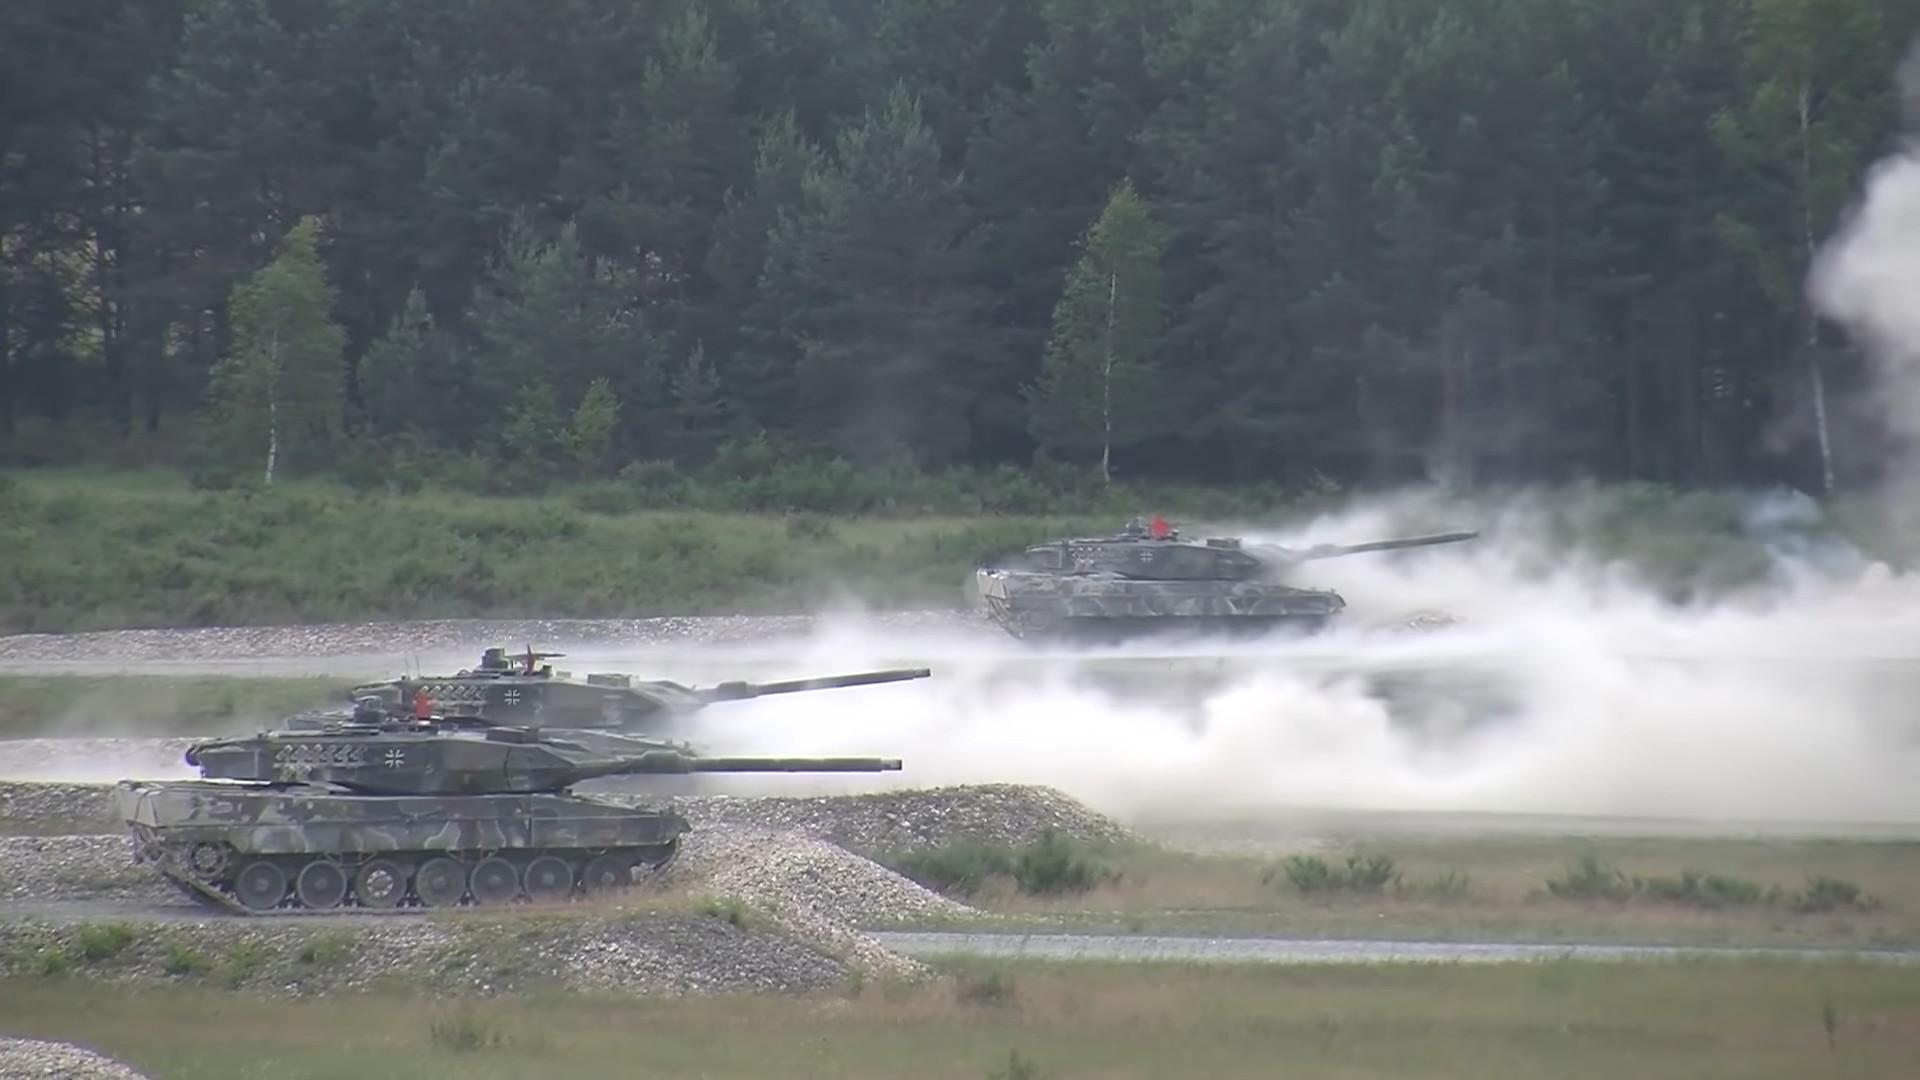tank: (115, 702, 906, 922), (281, 638, 942, 750), (980, 518, 1482, 665)
